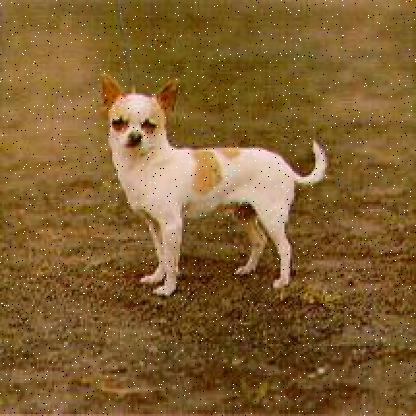dog: (93, 60, 338, 296)
